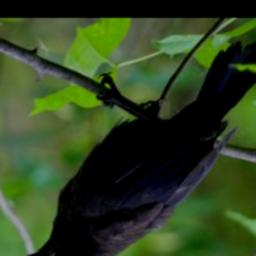Crow: (14, 40, 256, 256)
